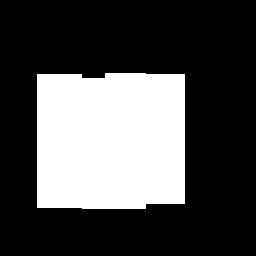person: (37, 74, 81, 207), (139, 74, 184, 203), (105, 73, 145, 208), (82, 78, 109, 208)
